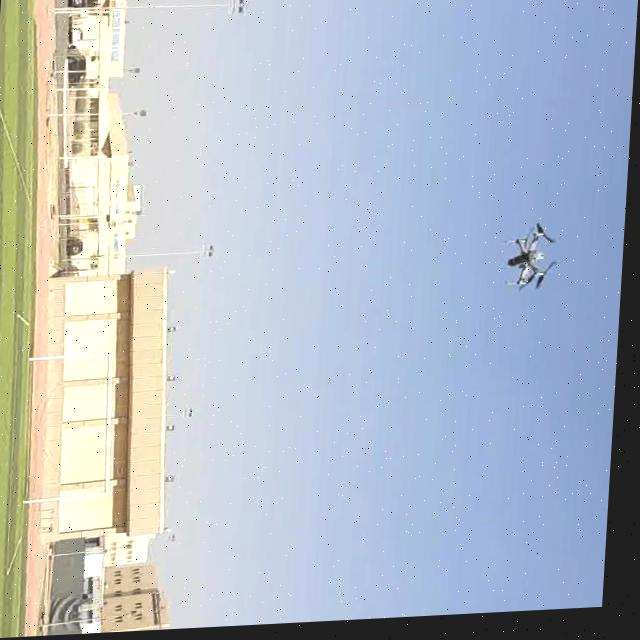drone: (500, 225, 575, 303)
